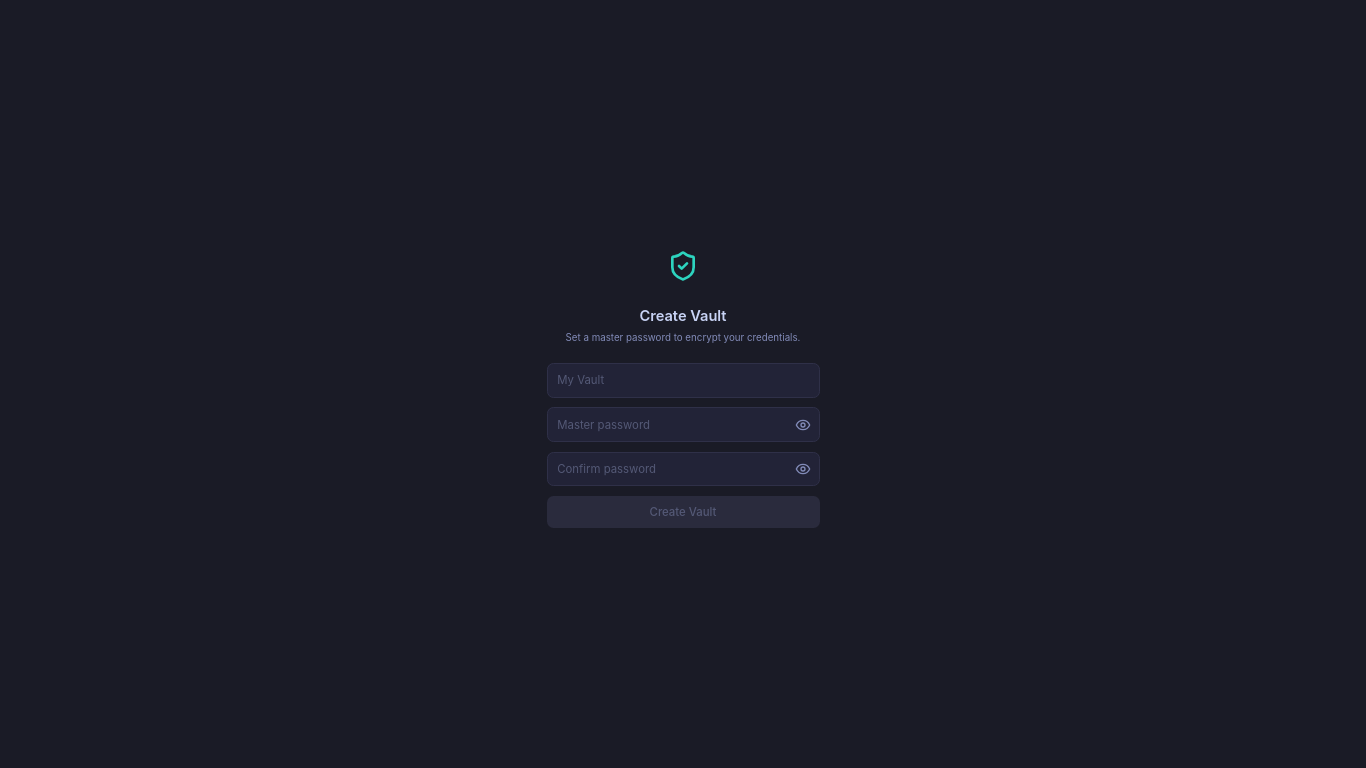
Scenario: VaultUnlock › validates password minimum length (8 chars)
Expected: the heading "Create Vault" is shown, [640,305,727,327]
Type "short" into the password field with placeholder "Master password" at [683, 425], box [546,407,820,442]
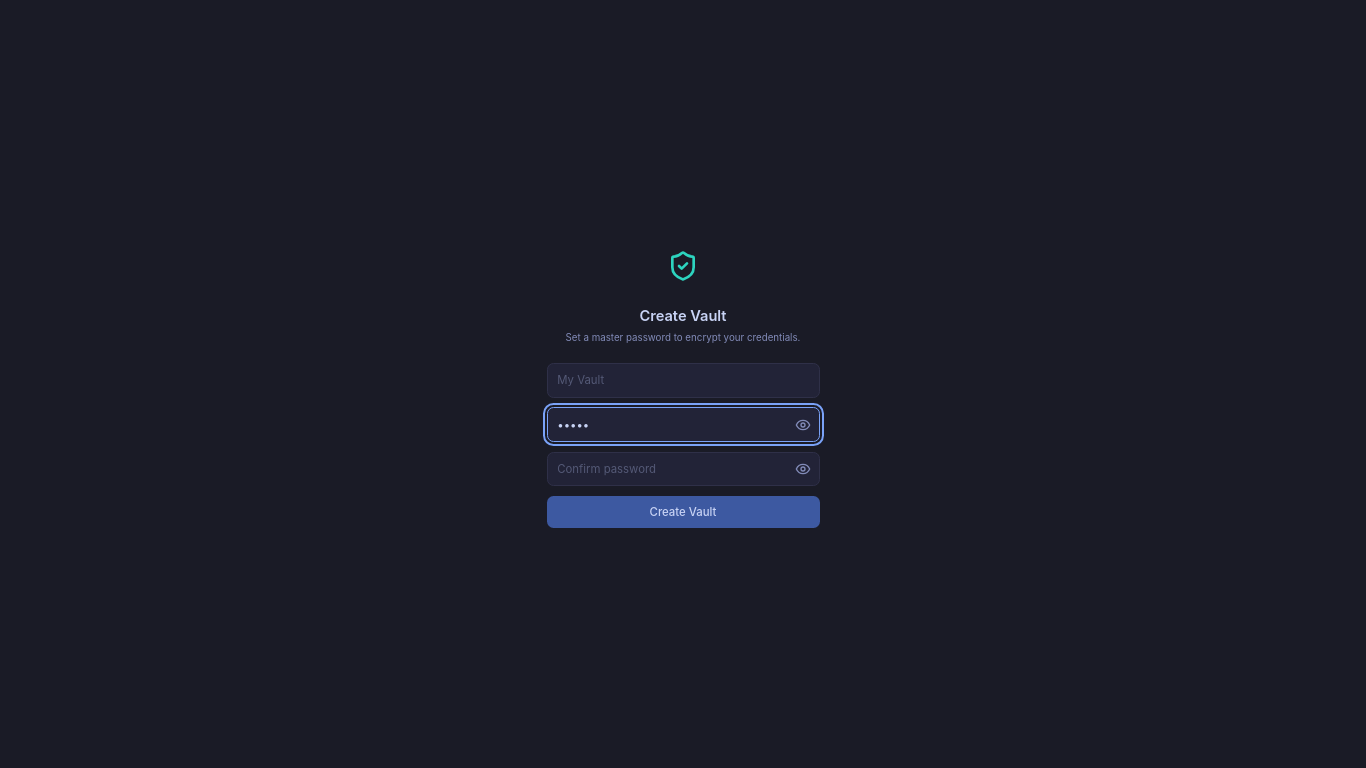
Type "short" into the password field with placeholder "Confirm password" at [683, 469], box [546,452,820,486]
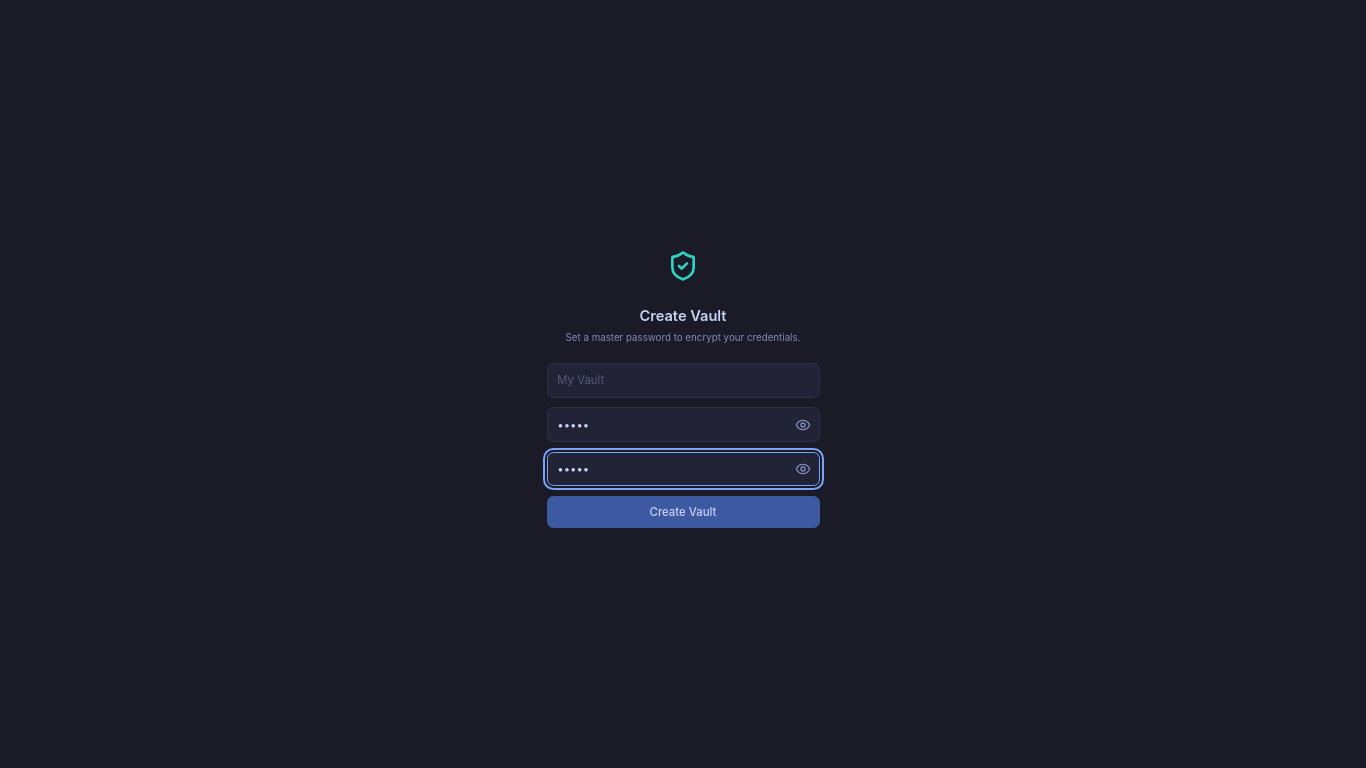
Click the button "Create Vault" at [683, 512], box [546,496,820,528]
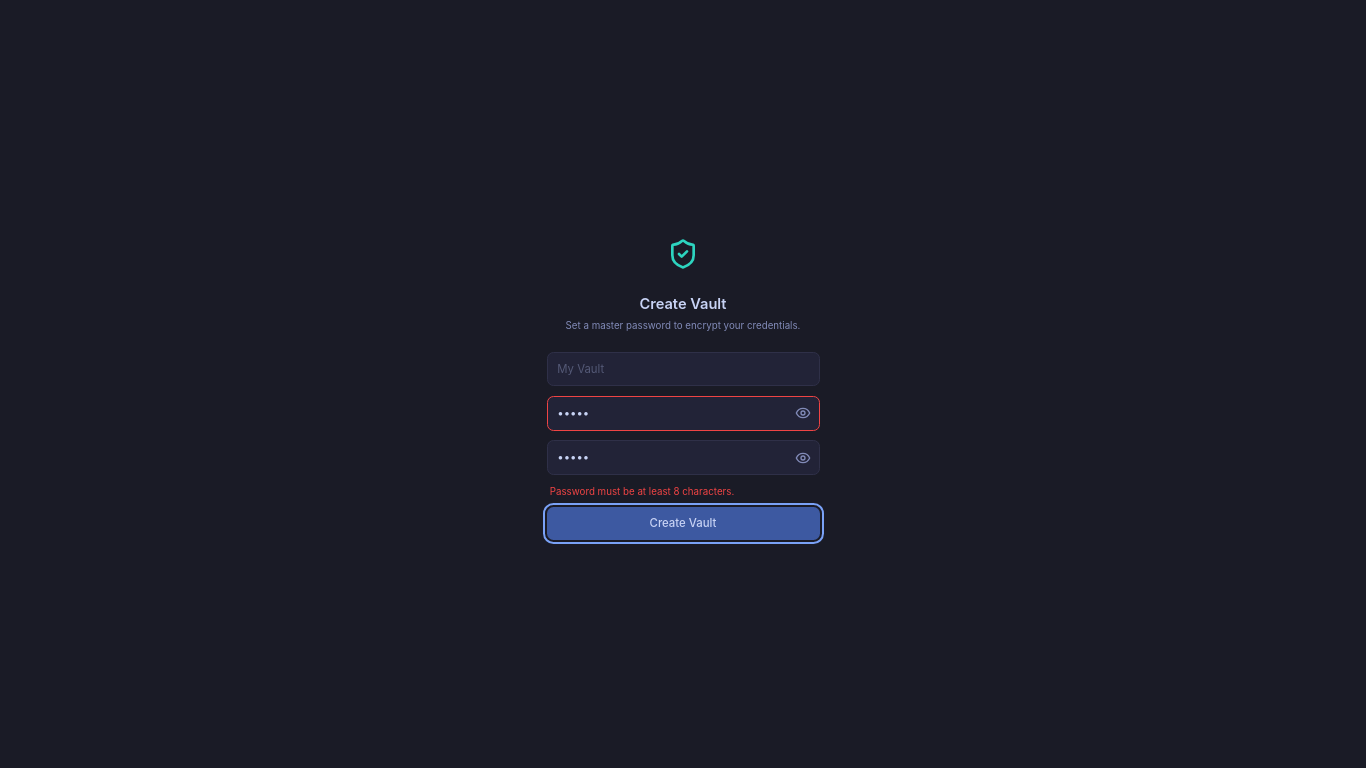
Result: the text "Password must be at least 8 characters." is shown at [550,486,734,496]
